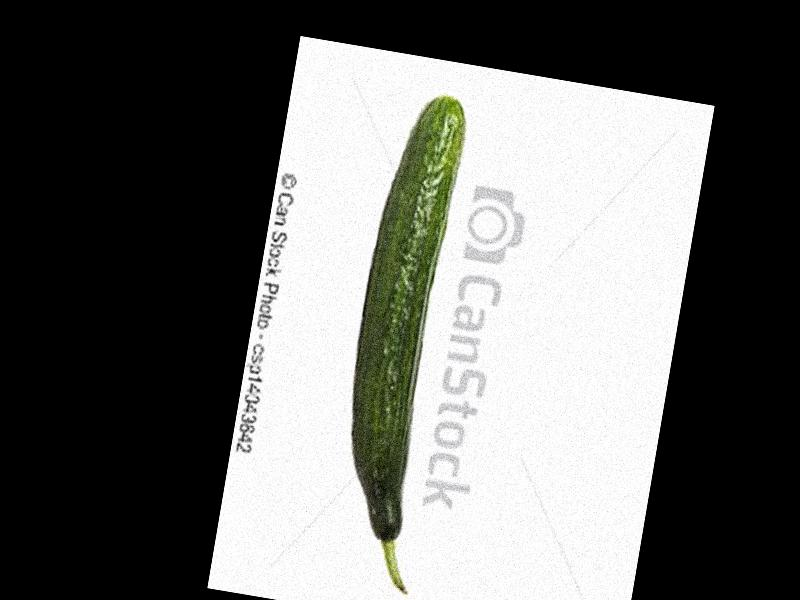Cucumber: (316, 90, 487, 596)
